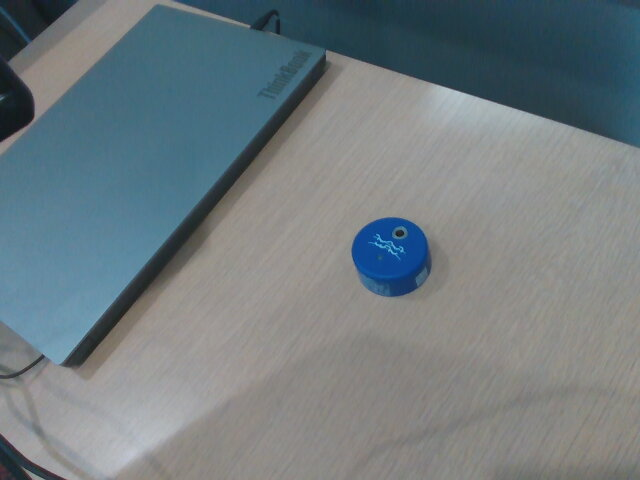alfa: (349, 214, 435, 299)
